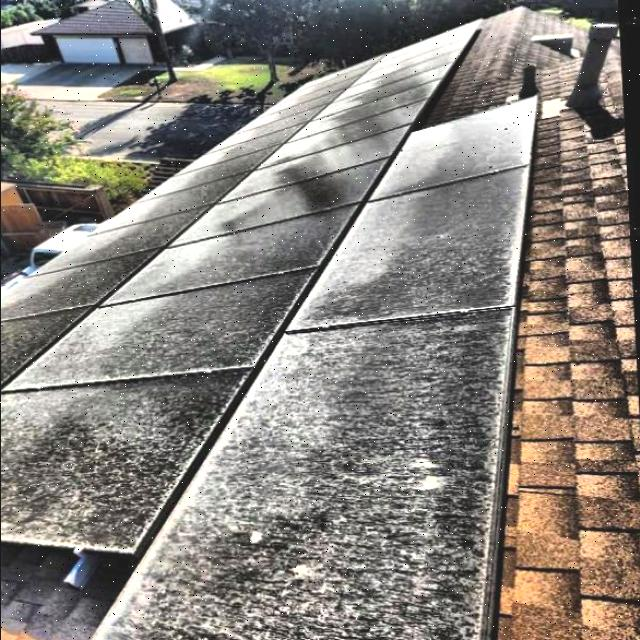Anomaly Solar Panel: (0, 22, 488, 549), (88, 94, 541, 640), (0, 57, 388, 388)
Surface Contaminant: (94, 94, 541, 640), (0, 51, 465, 553), (0, 56, 386, 389)
